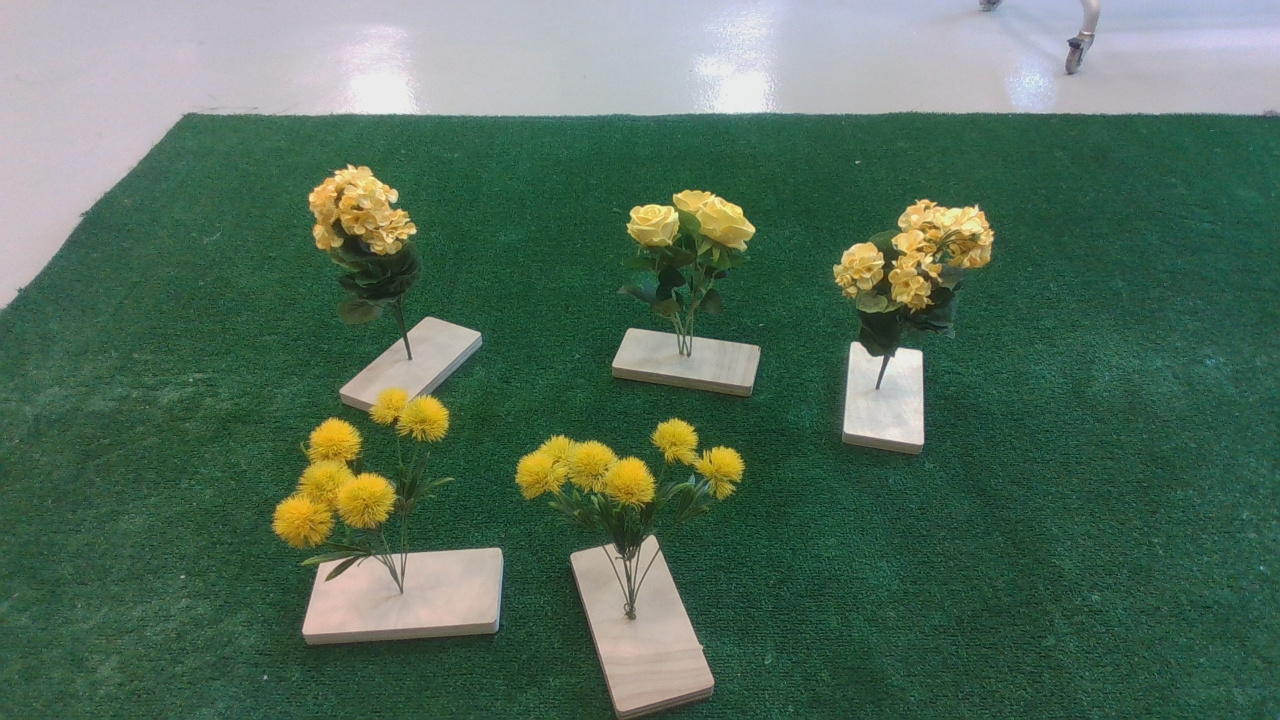dandelion: (268, 390, 466, 561), (504, 422, 767, 538)
geranium: (830, 201, 1007, 349), (305, 157, 433, 325)
rose: (611, 179, 767, 328)
